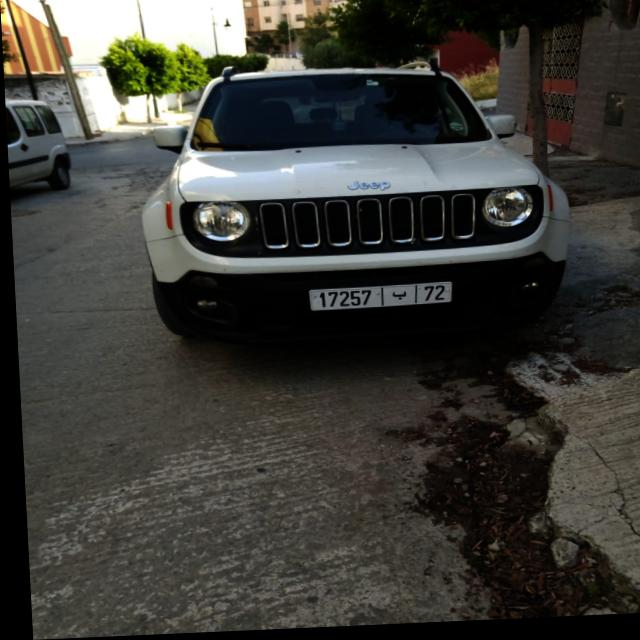License-Plate: (308, 287, 448, 313)
